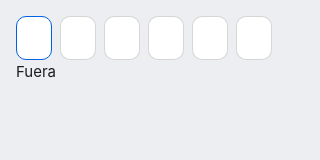
Test: six boxes for a number › takes one digit per box and moves along on its own
In the field named "Digit 1 of 6": (34, 38) x1=16 y1=16 x2=52 y2=60, type "123456"
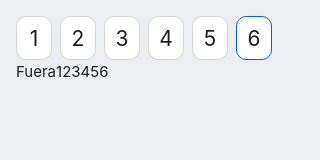
Check: the text "123456" is shown, box x1=56 y1=62 x2=108 y2=81
